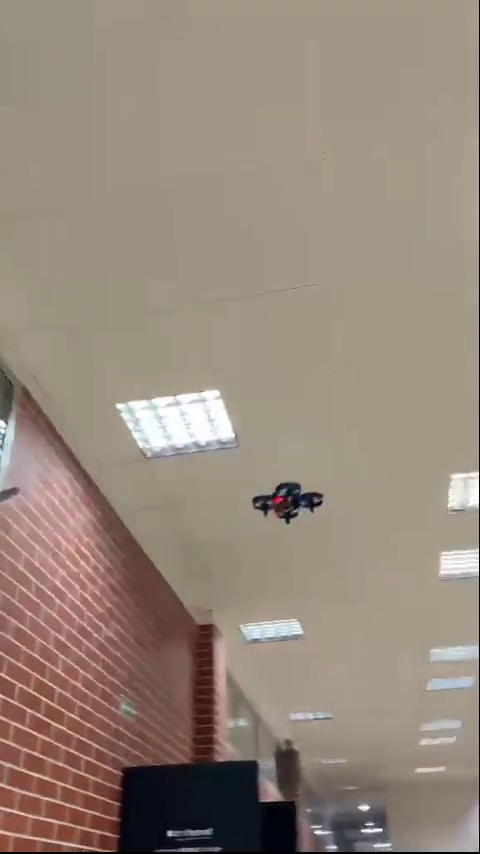drone: (246, 478, 324, 524)
